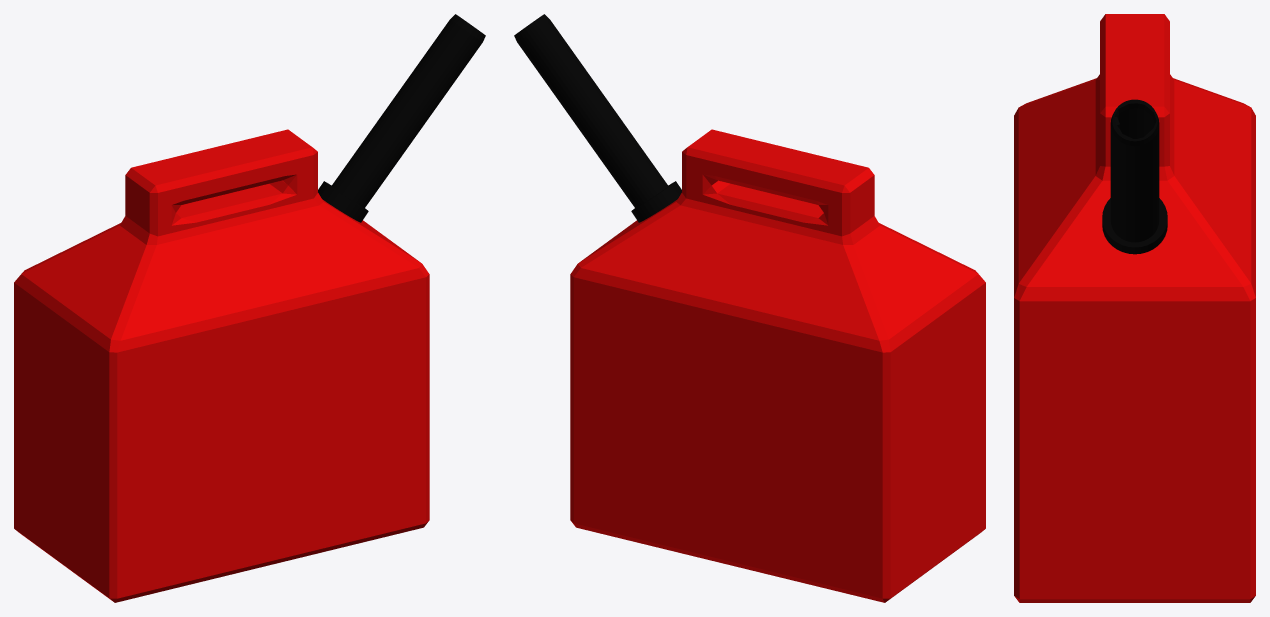
File: gas can.fbx
3 views of the same model, side by side, from view 1: azimuth 30°, elevation 25°; view 2: azimuth 150°, elevation 25°; view 3: azimuth 270°, elevation 25° (orthographic). The views are drawn at different scales.
Visible parts, largest first — view 1: Cube, Cylinder.001, Cylinder; view 2: Cube, Cylinder.001, Cylinder; view 3: Cube, Cylinder.001, Cylinder.
Boxes of the visible parts, <box> form: Cube: <box>14,129,429,602</box>; Cylinder.001: <box>331,14,485,208</box>; Cylinder: <box>318,181,368,222</box>; Cube: <box>570,129,985,602</box>; Cylinder.001: <box>514,14,668,208</box>; Cylinder: <box>631,181,681,222</box>; Cube: <box>1014,14,1255,602</box>; Cylinder.001: <box>1110,99,1159,242</box>; Cylinder: <box>1102,198,1167,254</box>.
Bounding box in the file's own units: 335 × 347 × 137.
